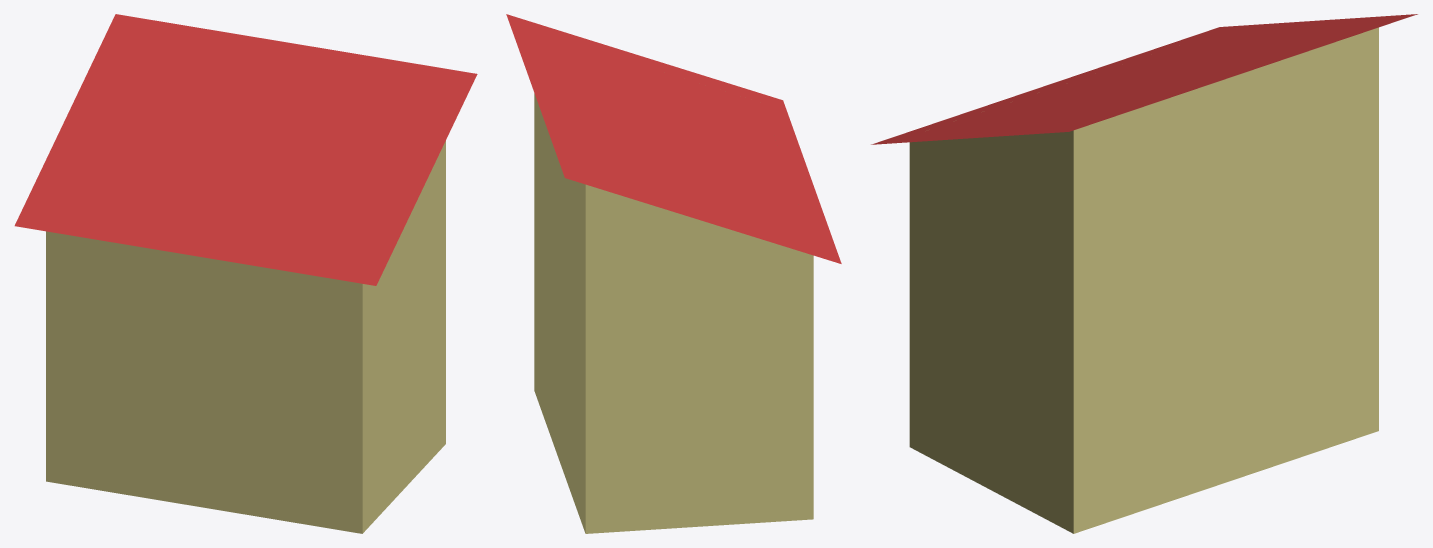
3 views of the same model, side by side, from view 1: azimuth 30°, elevation 25°; view 2: azimuth 150°, elevation 25°; view 3: azimuth 270°, elevation 25° (orthographic). The views are drawn at different scales.
Size of the model in its own units: 9.39 by 9.75 by 8.22.
